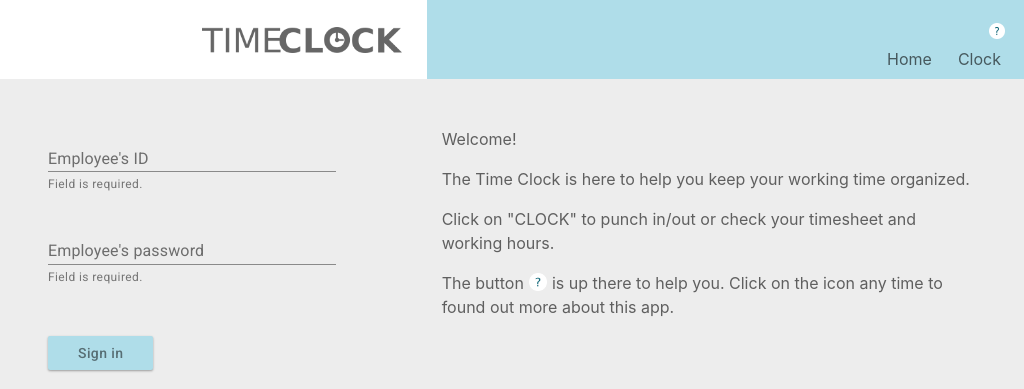
Scenario: Click on Clock menu (No Auth)
Click the link with class "clock-lnk" at (979, 59), box [958,49,1001,69]
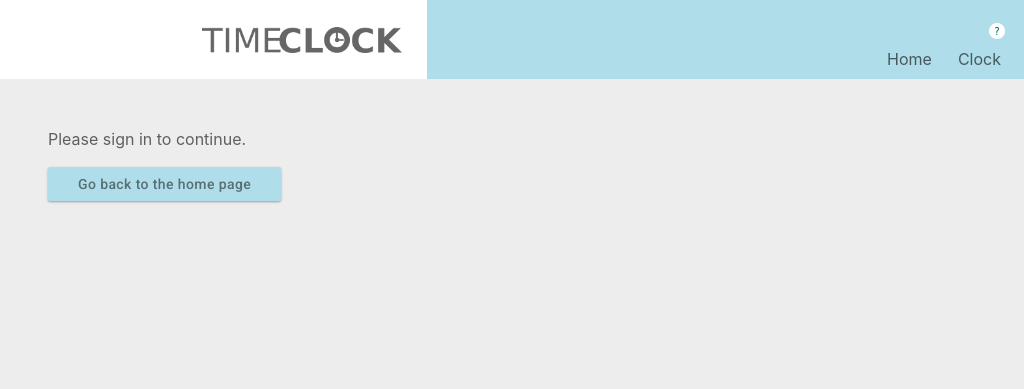
Check: the text "Please sign in to continue." is shown, box [48,129,246,149]
